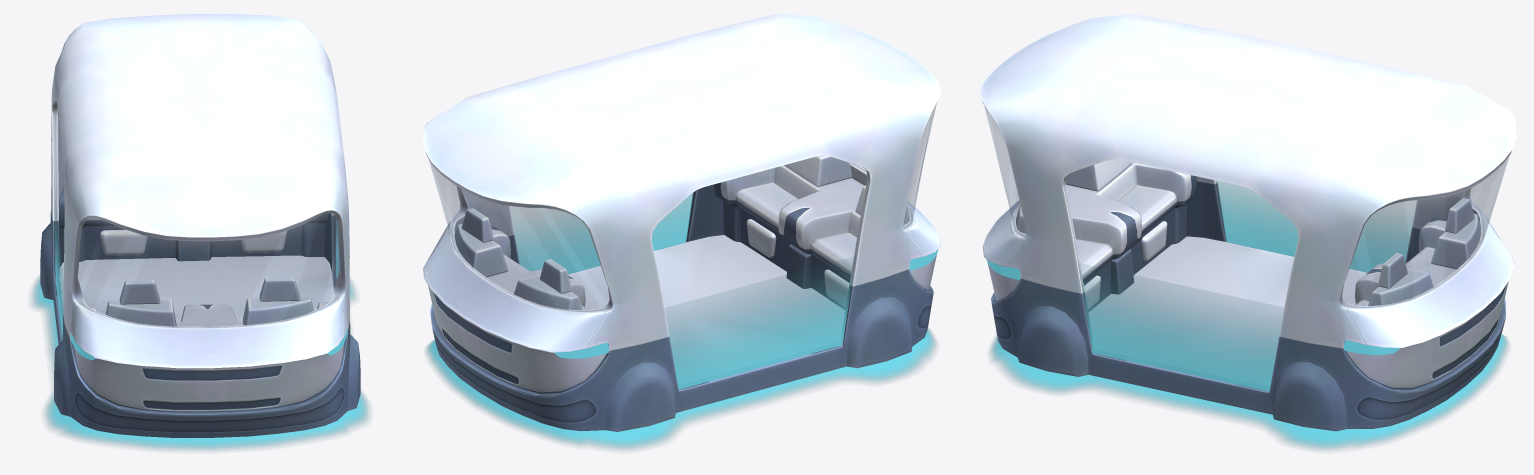
The model's file is obj_shuttle05.gltf.
3 views of the same model, side by side, from view 1: azimuth 30°, elevation 25°; view 2: azimuth 150°, elevation 25°; view 3: azimuth 270°, elevation 25° (orthographic). The views are drawn at different scales.
Visible parts, largest first — view 1: obj_shuttle05_mesh, obj_shuttle05_shield01; view 2: obj_shuttle05_mesh, obj_shuttle05_shield01, obj_shuttle05_shield02; view 3: obj_shuttle05_mesh, obj_shuttle05_shield02, obj_shuttle05_shield01.
Boxes of the visible parts, x1,y1,x2,y2 form: obj_shuttle05_mesh: (31, 14, 369, 450); obj_shuttle05_shield01: (55, 200, 63, 339); obj_shuttle05_mesh: (423, 14, 940, 450); obj_shuttle05_shield01: (665, 258, 855, 389); obj_shuttle05_shield02: (511, 192, 693, 274); obj_shuttle05_mesh: (980, 14, 1516, 450); obj_shuttle05_shield02: (1079, 265, 1283, 391); obj_shuttle05_shield01: (1217, 181, 1415, 272).
Size of what is drawn, in the model's own units: 5.35 by 3.22 by 5.88.
Materials: 3 (3 with a texture image).
